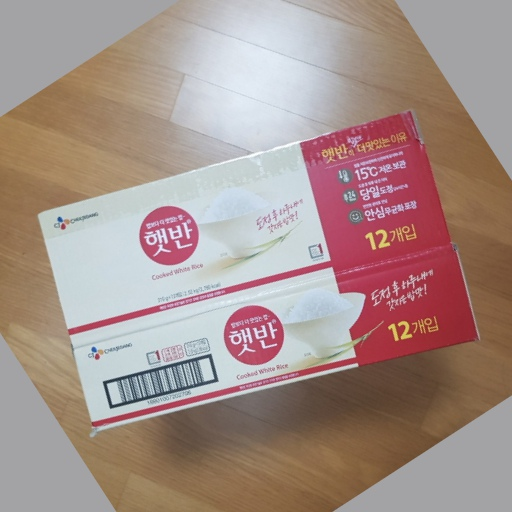Paper_0: (28, 105, 485, 443)
